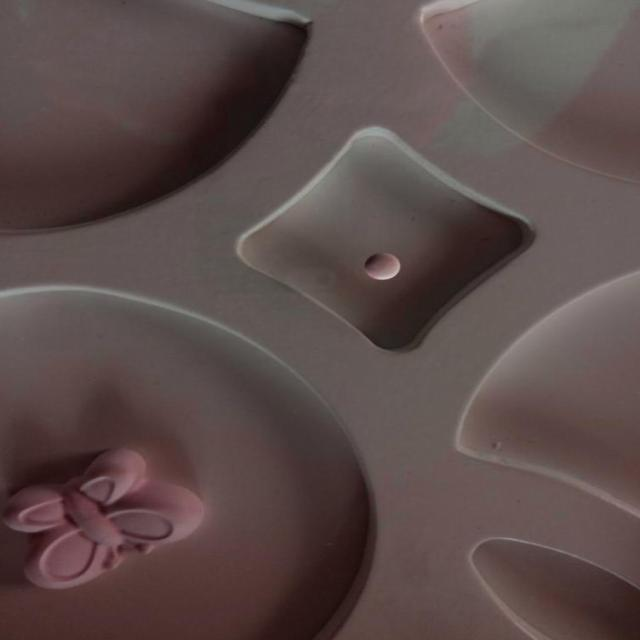pill: (364, 250, 401, 282)
